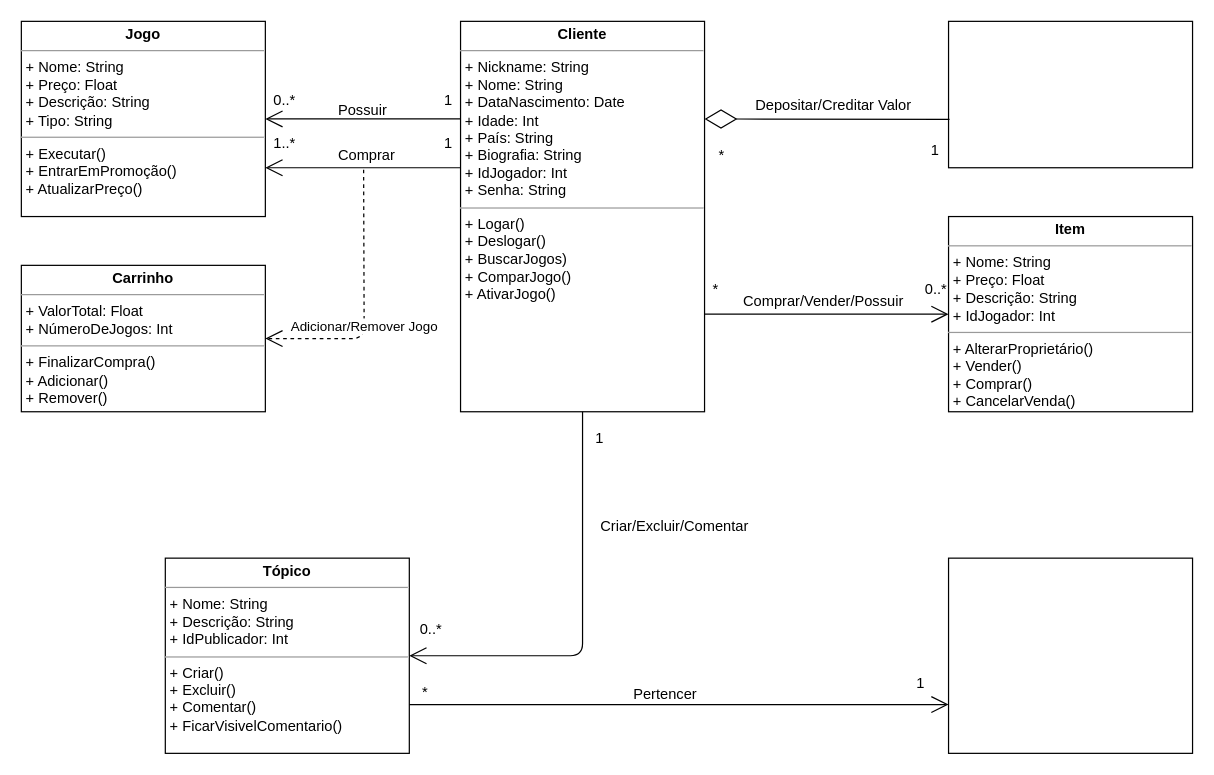
Image size: 1214x775. Some labels were removed from this diagram. Each missing label, with the box of its shape:
Carteira + Saldo: Float + IdJogador: Int + DebitarValor() + AdicionarValor(): (947, 20, 1193, 168)
Fórum + Nome: String + Descrição: String + Tipo: String: (947, 557, 1193, 753)
